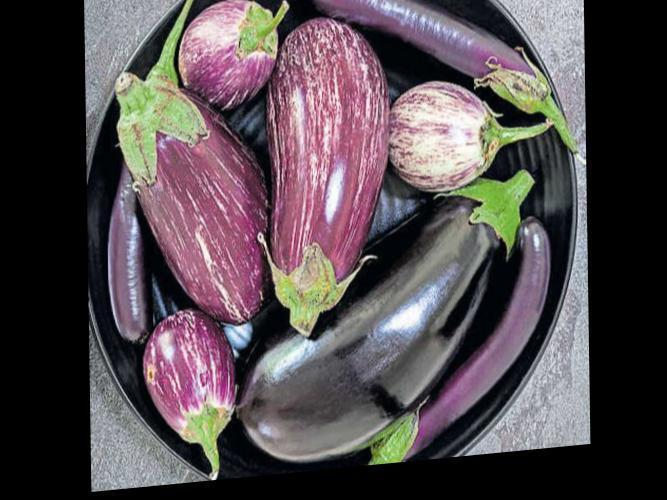eggplant: (108, 66, 286, 330), (273, 10, 382, 347), (143, 306, 250, 474), (387, 76, 523, 195), (180, 0, 279, 128)
